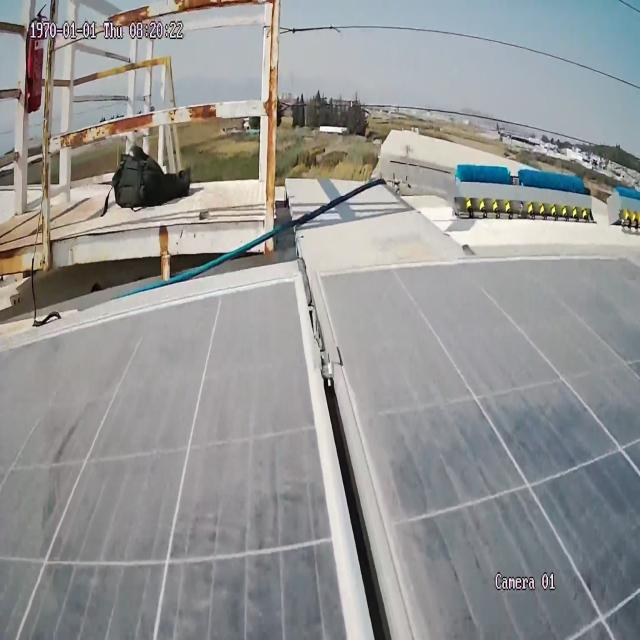interior panel: (285, 268, 457, 640)
